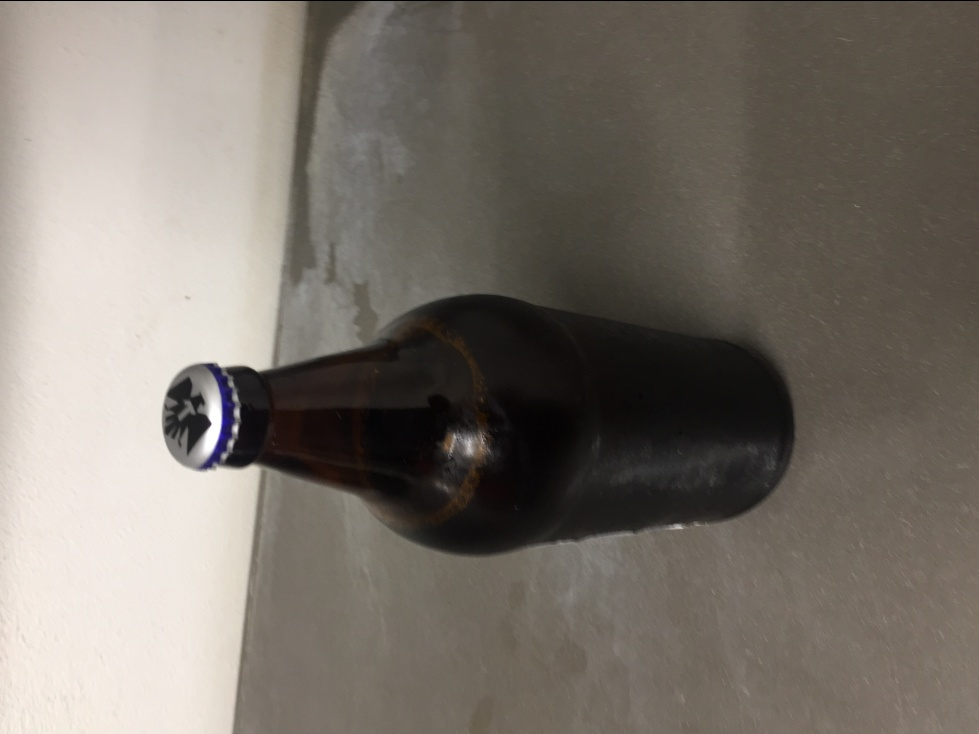tecateC: (161, 295, 797, 554)
